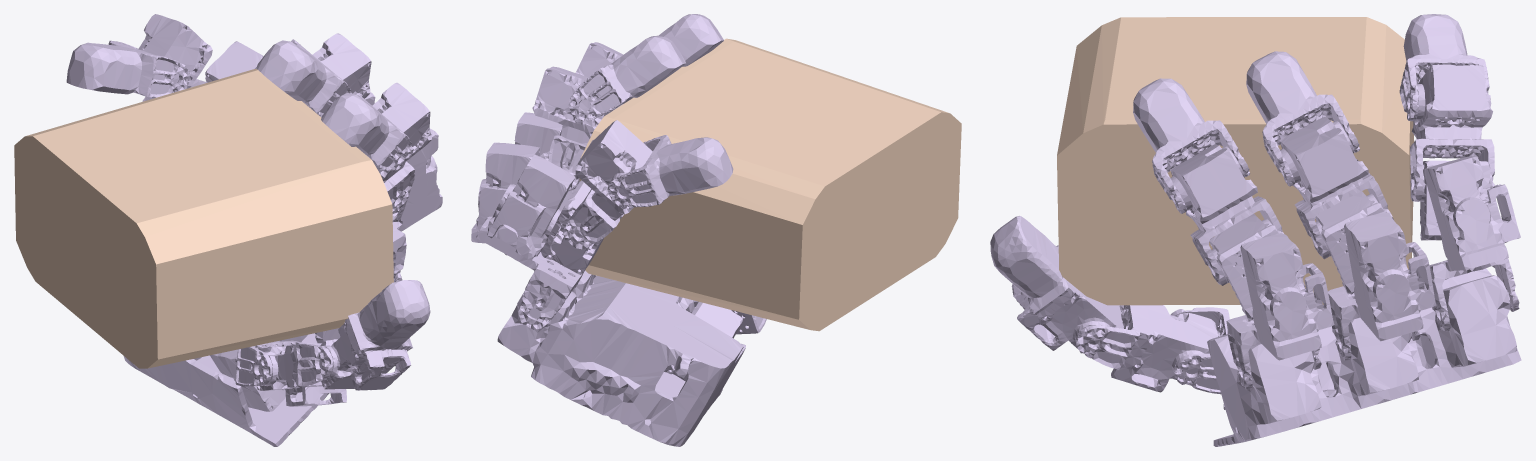
3 views of the same model, side by side, from view 1: azimuth 30°, elevation 25°; view 2: azimuth 150°, elevation 25°; view 3: azimuth 270°, elevation 25° (orthographic). The views are drawn at different scales.
Visible parts, largest first — view 1: world, LEAP_hand; view 2: world, LEAP_hand; view 3: LEAP_hand, world.
Part boxes in pixels (x1,y1,x2,y2): world: (14, 69, 393, 368); LEAP_hand: (66, 14, 442, 446); world: (579, 38, 961, 331); LEAP_hand: (471, 14, 766, 446); LEAP_hand: (990, 14, 1521, 446); world: (1057, 17, 1414, 305).
Bounding box in the file's own units: 0.2068 × 0.1962 × 0.2284.
